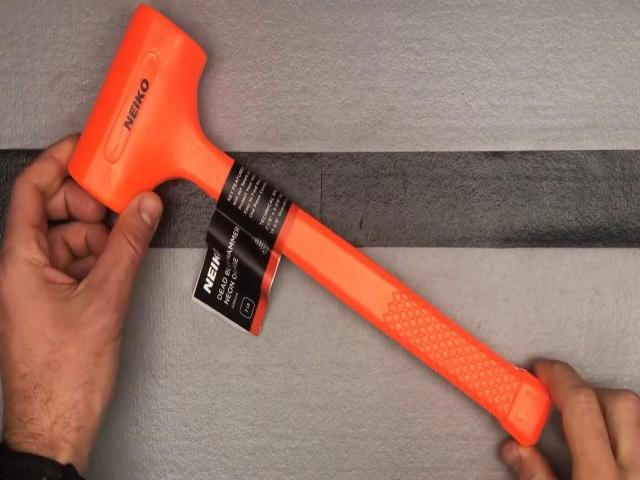hammer: (65, 4, 553, 447)
